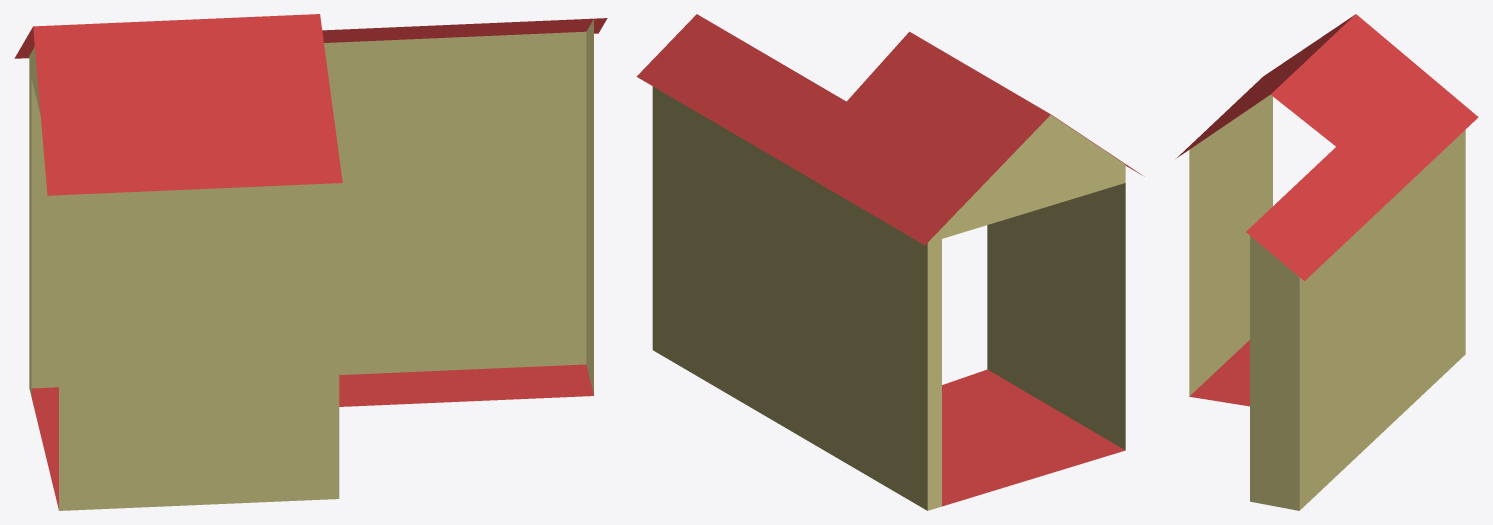
3 views of the same model, side by side, from view 1: azimuth 30°, elevation 25°; view 2: azimuth 150°, elevation 25°; view 3: azimuth 270°, elevation 25° (orthographic). The views are drawn at different scales.
Bounding box in the file's own units: 12.16 × 7.61 × 8.72.
